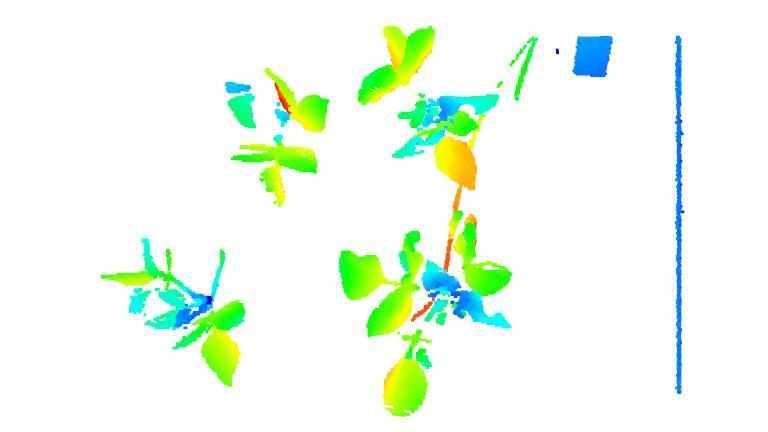mungbean: (335, 207, 513, 414), (97, 237, 245, 390), (354, 21, 482, 193), (224, 65, 329, 209)
